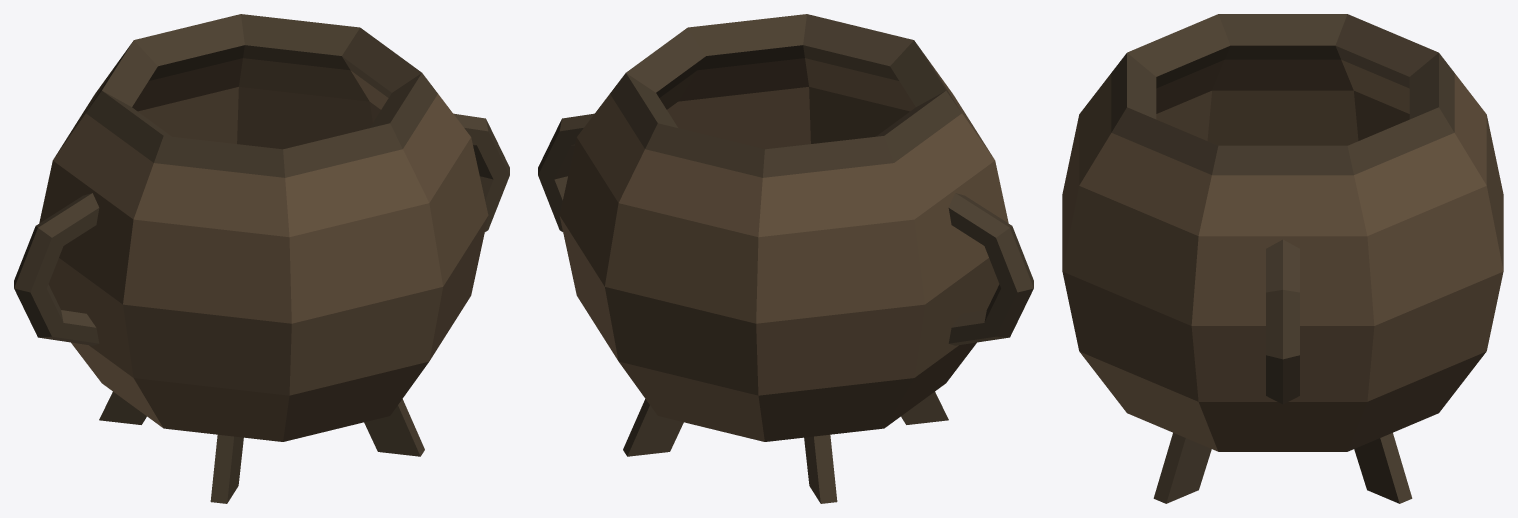
File: Cauldron_3_Brown.fbx
3 renders of one model, left to right at view 1: azimuth 30°, elevation 25°; view 2: azimuth 150°, elevation 25°; view 3: azimuth 270°, elevation 25°, orthographic. The views are drawn at different scales.
Parts seen in each view (by area): view 1: Cauldron_3_Brown_Part_1, Cauldron_3_Brown_Part_2; view 2: Cauldron_3_Brown_Part_1, Cauldron_3_Brown_Part_2; view 3: Cauldron_3_Brown_Part_1, Cauldron_3_Brown_Part_2.
Boxes of the visible parts, left/top/right/bottom form: Cauldron_3_Brown_Part_1: left=39, top=58, right=488, bottom=441; Cauldron_3_Brown_Part_2: left=14, top=14, right=509, bottom=503; Cauldron_3_Brown_Part_1: left=559, top=58, right=1008, bottom=441; Cauldron_3_Brown_Part_2: left=538, top=14, right=1033, bottom=503; Cauldron_3_Brown_Part_1: left=1062, top=59, right=1503, bottom=451; Cauldron_3_Brown_Part_2: left=1111, top=14, right=1454, bottom=503.
Bounding box in the file's own units: 251 × 171 × 185.
